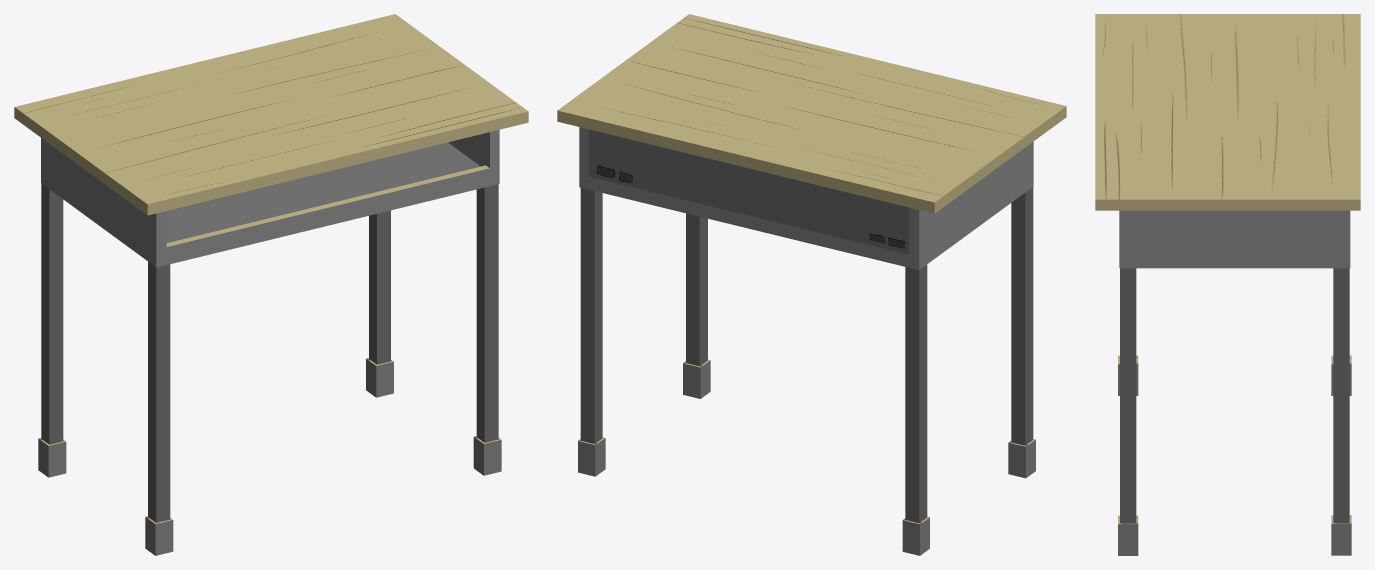
Rendered from LV1_Table_resized.fbx.
The picture shows the model from 3 angles, left to right: view 1: azimuth 30°, elevation 25°; view 2: azimuth 150°, elevation 25°; view 3: azimuth 270°, elevation 25°; orthographic projection.
Visible parts, largest first — view 1: polySurface8; view 2: polySurface8; view 3: polySurface8.
Part boxes in pixels (box(x1,y1,x2,y2)): polySurface8: box(14, 14, 528, 555); polySurface8: box(557, 14, 1066, 555); polySurface8: box(1095, 14, 1360, 555).
Size of the model in its own units: 2.53 by 2.32 by 1.53.
